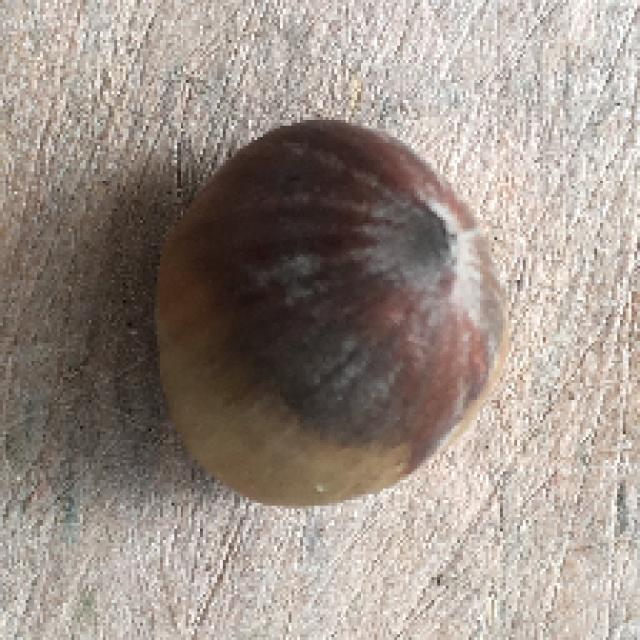damagedHazelnut: (145, 104, 511, 514)
